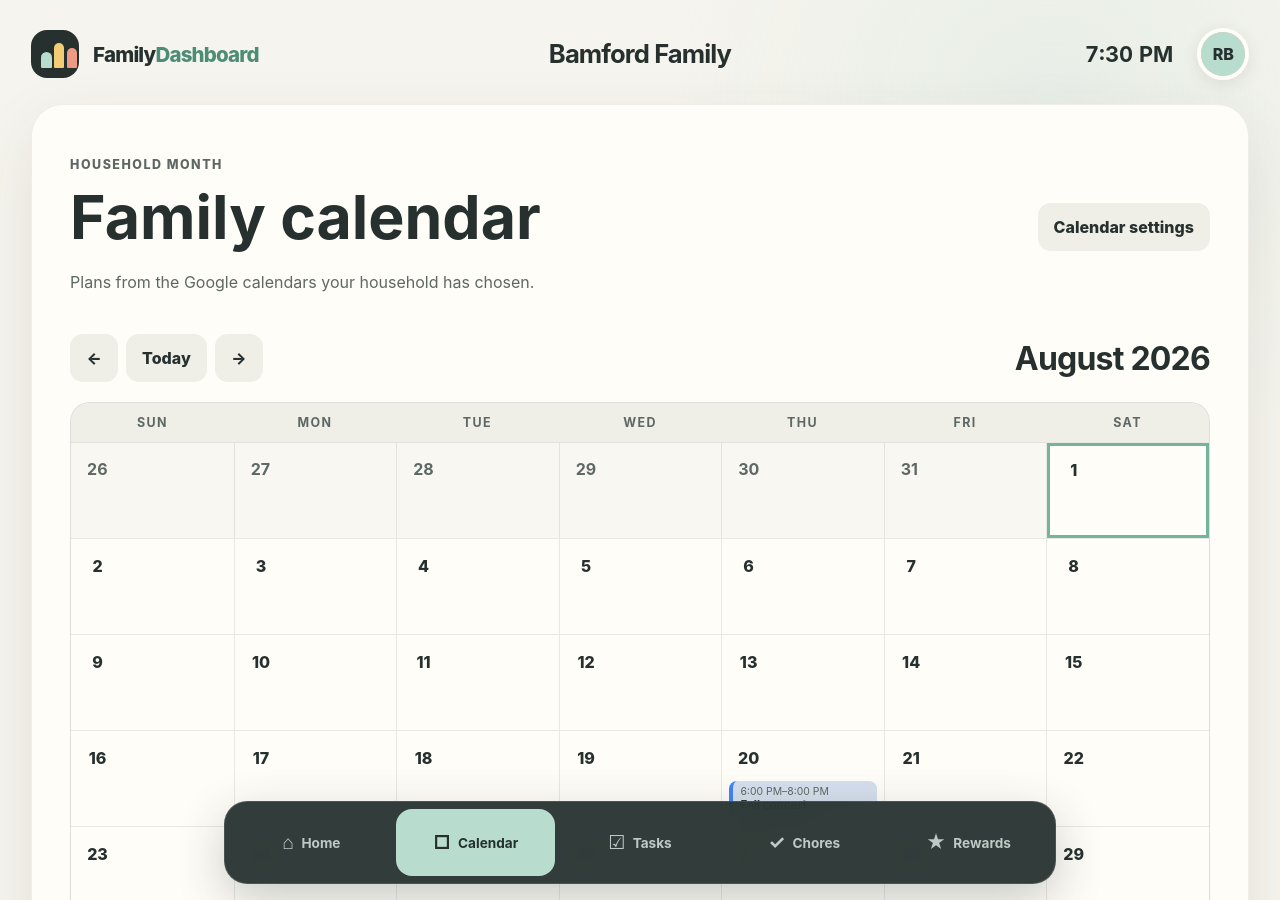
Scenario: calendar integration › shows normalized read-only events on the family calendar
The image size is (1280, 900).
Check: the heading "Family calendar" is shown, box [70, 180, 541, 254]
Check: the text "Fall concert" is shown, box [741, 798, 807, 812]
Click the button named "Thursday, August 20, 1 event". click: x=749, y=758
box: [729, 738, 768, 777]
(page scrolled)
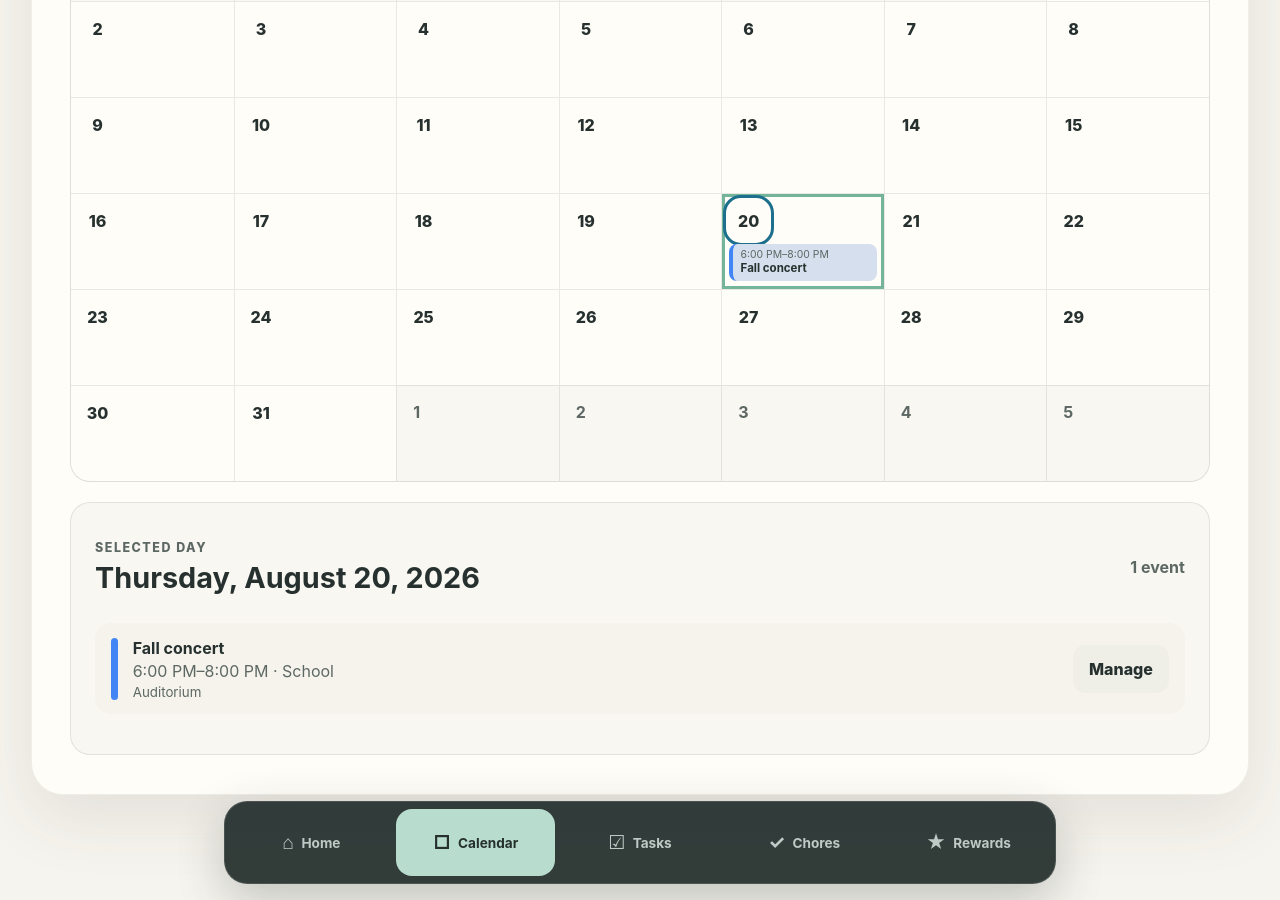
Check: the heading "Thursday, August 20, 2026" is shown, box [95, 560, 480, 595]
Check: the text "Auditorium" is shown, box [133, 684, 201, 700]
Check: the text "6:00 PM–8:00 PM · School" is shown, box [133, 661, 334, 681]
